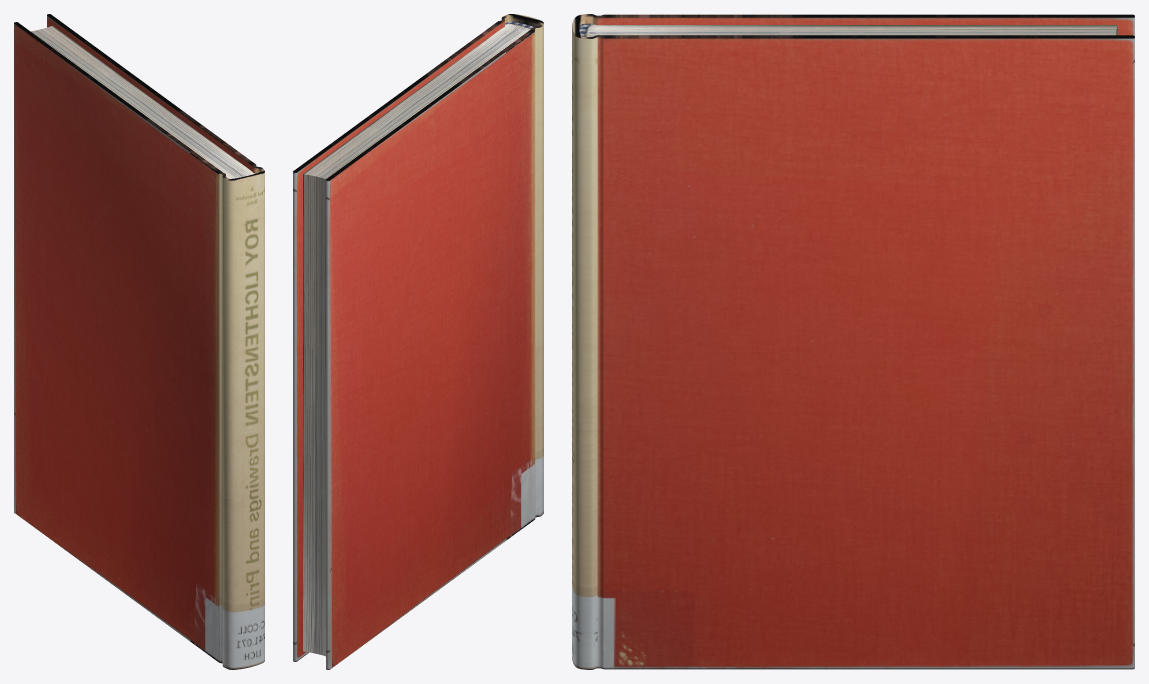
The model's file is 16_Waldman_Diane.glb.
3 renders of one model, left to right at view 1: azimuth 30°, elevation 25°; view 2: azimuth 150°, elevation 25°; view 3: azimuth 270°, elevation 25°, orthographic. The views are drawn at different scales.
Parts seen in each view (by area): view 1: Object_40.001, Object_42.007; view 2: Object_40.001, Object_42.007; view 3: Object_40.001, Object_42.007.
Part boxes in pixels (box(x1,y1,x2,y2)): Object_40.001: box(14, 14, 264, 669); Object_42.007: box(31, 25, 254, 178); Object_40.001: box(293, 14, 543, 669); Object_42.007: box(303, 21, 533, 656); Object_40.001: box(572, 14, 1134, 669); Object_42.007: box(579, 23, 1117, 36).
Size of the model in its own units: 0.0218 by 0.26 by 0.21.
Materials: 2 (2 with a texture image).
